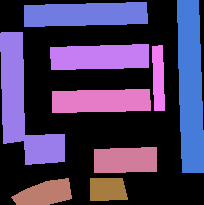parkingspot: (177, 0, 204, 172), (24, 2, 147, 26), (0, 32, 24, 143), (50, 44, 148, 69), (52, 89, 150, 112), (11, 178, 71, 205), (94, 147, 156, 172), (24, 134, 64, 164), (90, 178, 127, 200), (152, 45, 164, 110)
